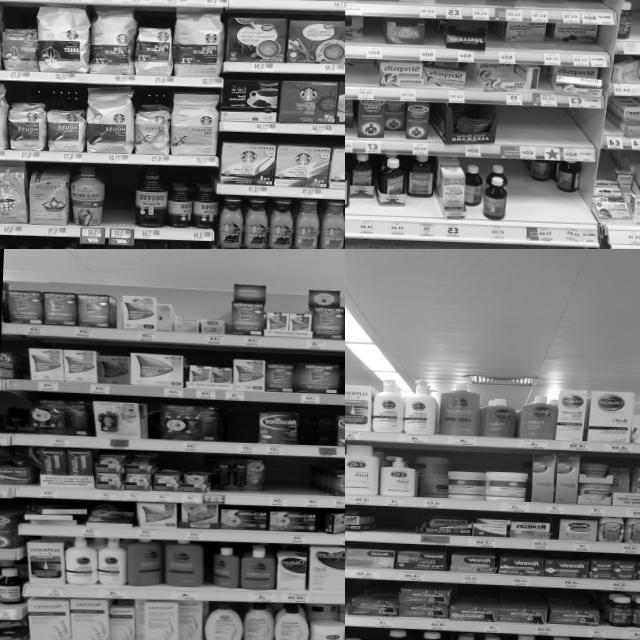empty: (540, 108, 596, 161), (512, 180, 552, 244), (498, 106, 540, 160), (104, 168, 134, 239), (227, 411, 257, 454), (264, 460, 291, 506), (292, 458, 314, 507), (387, 508, 413, 542), (362, 16, 383, 58), (489, 0, 519, 20), (424, 18, 438, 60), (462, 0, 488, 20), (361, 628, 378, 640)
